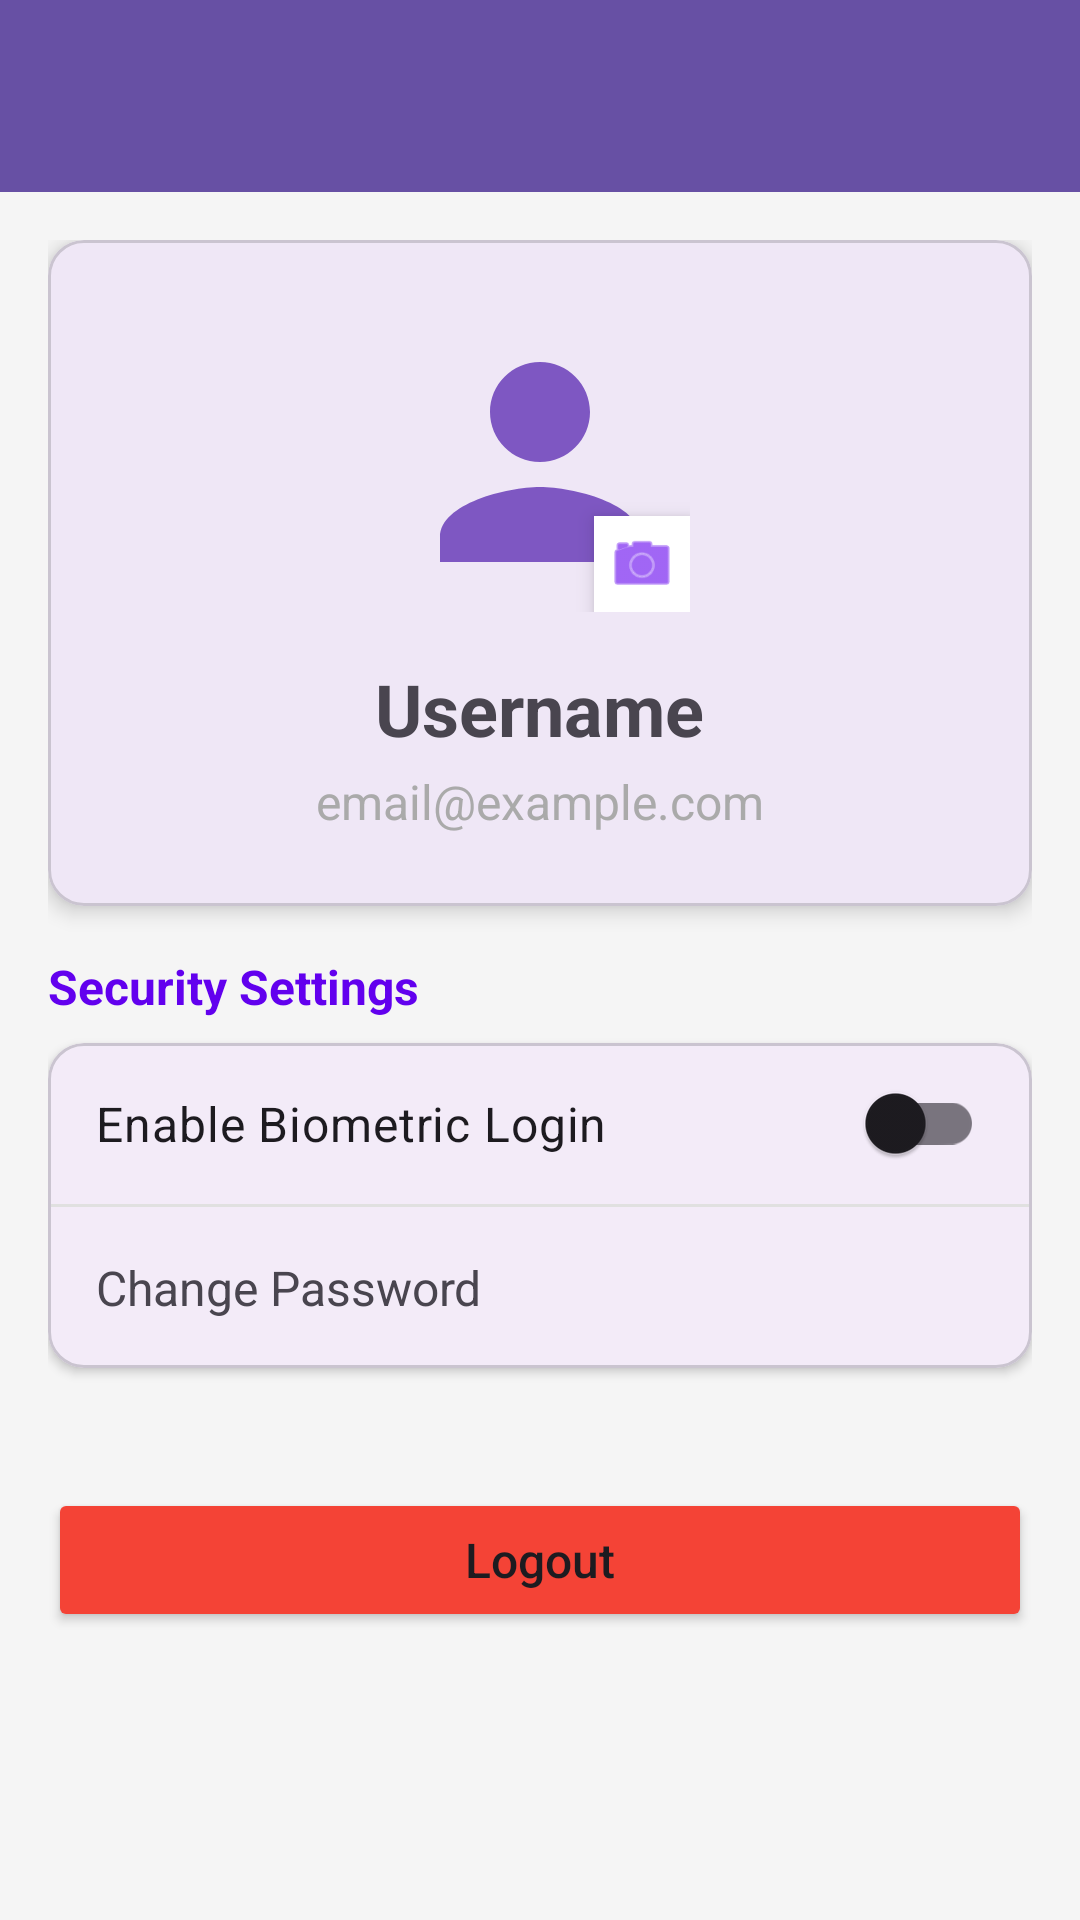

Icon bounding boxes for this 1080*1920 phone screenshot, format (x1, y1, x2, y2):
camera: (594, 516, 690, 612)
